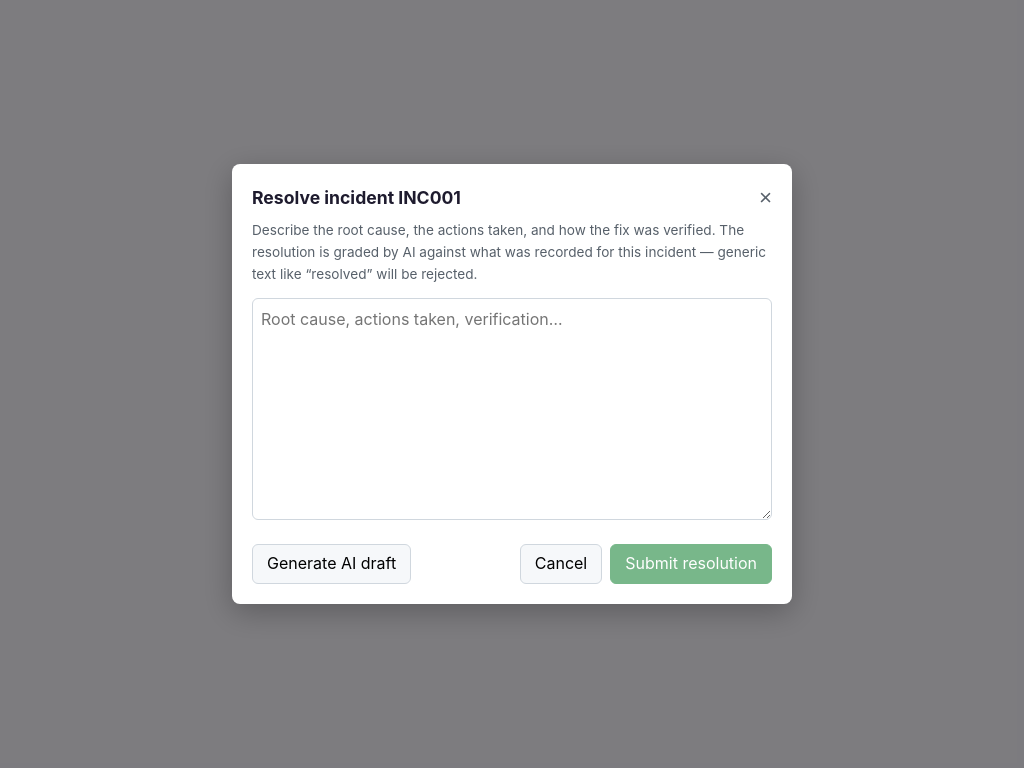
Test: ResolutionModal › populates the textarea with the AI draft
This screenshot has width=1024, height=768.
Click the button "Generate AI draft". click: (332, 564)
box: [252,544,411,584]
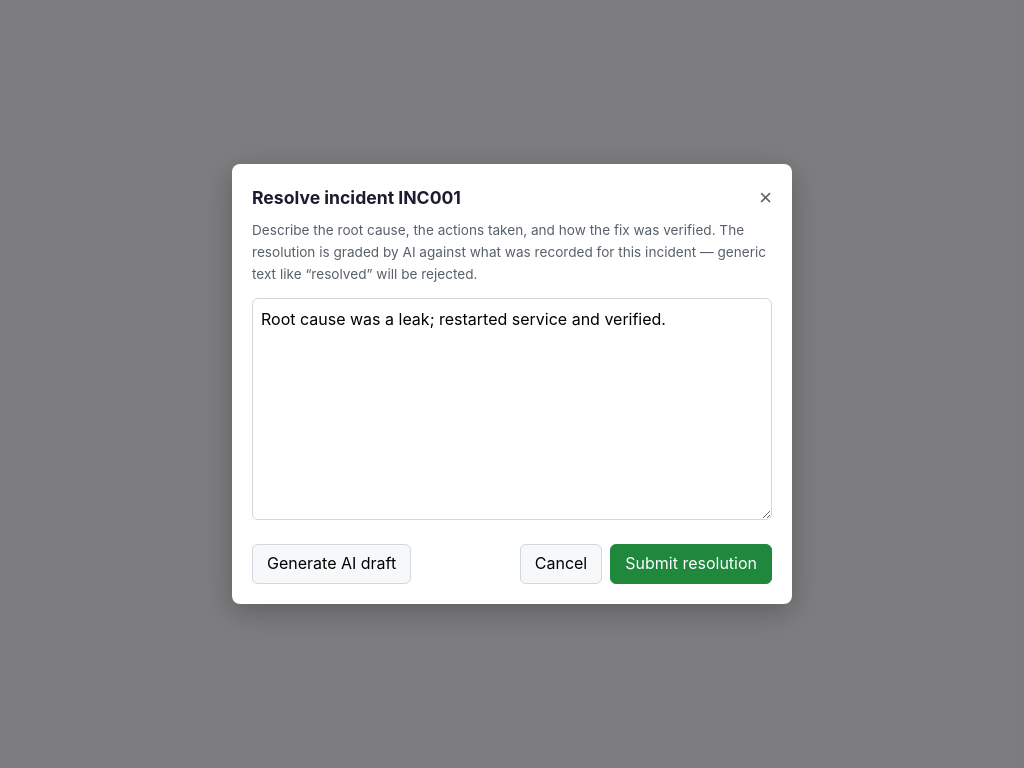
Result: the text box named "Resolution text" holds "Root cause was a leak; restarted service and verified." at [252,298,772,520]
